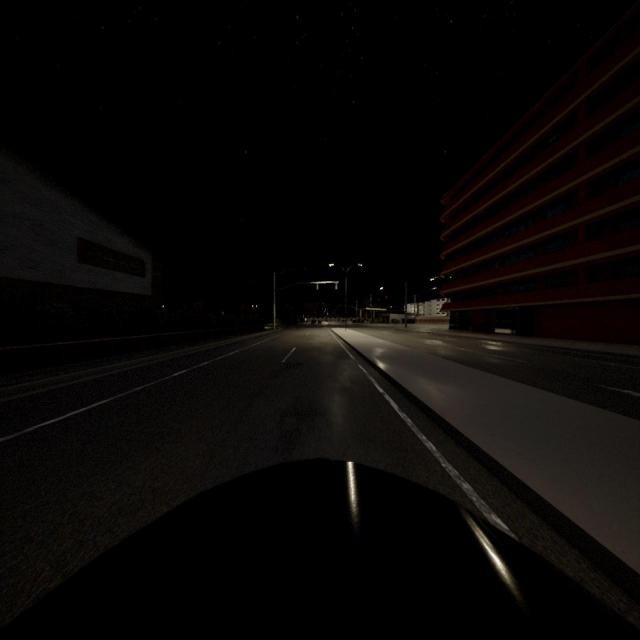Vehicle: (0, 457, 640, 640), (352, 319, 359, 322), (311, 320, 315, 324), (318, 321, 321, 324)
traffic_light: (316, 283, 318, 290), (336, 283, 338, 289), (378, 299, 380, 301), (386, 296, 387, 298)
